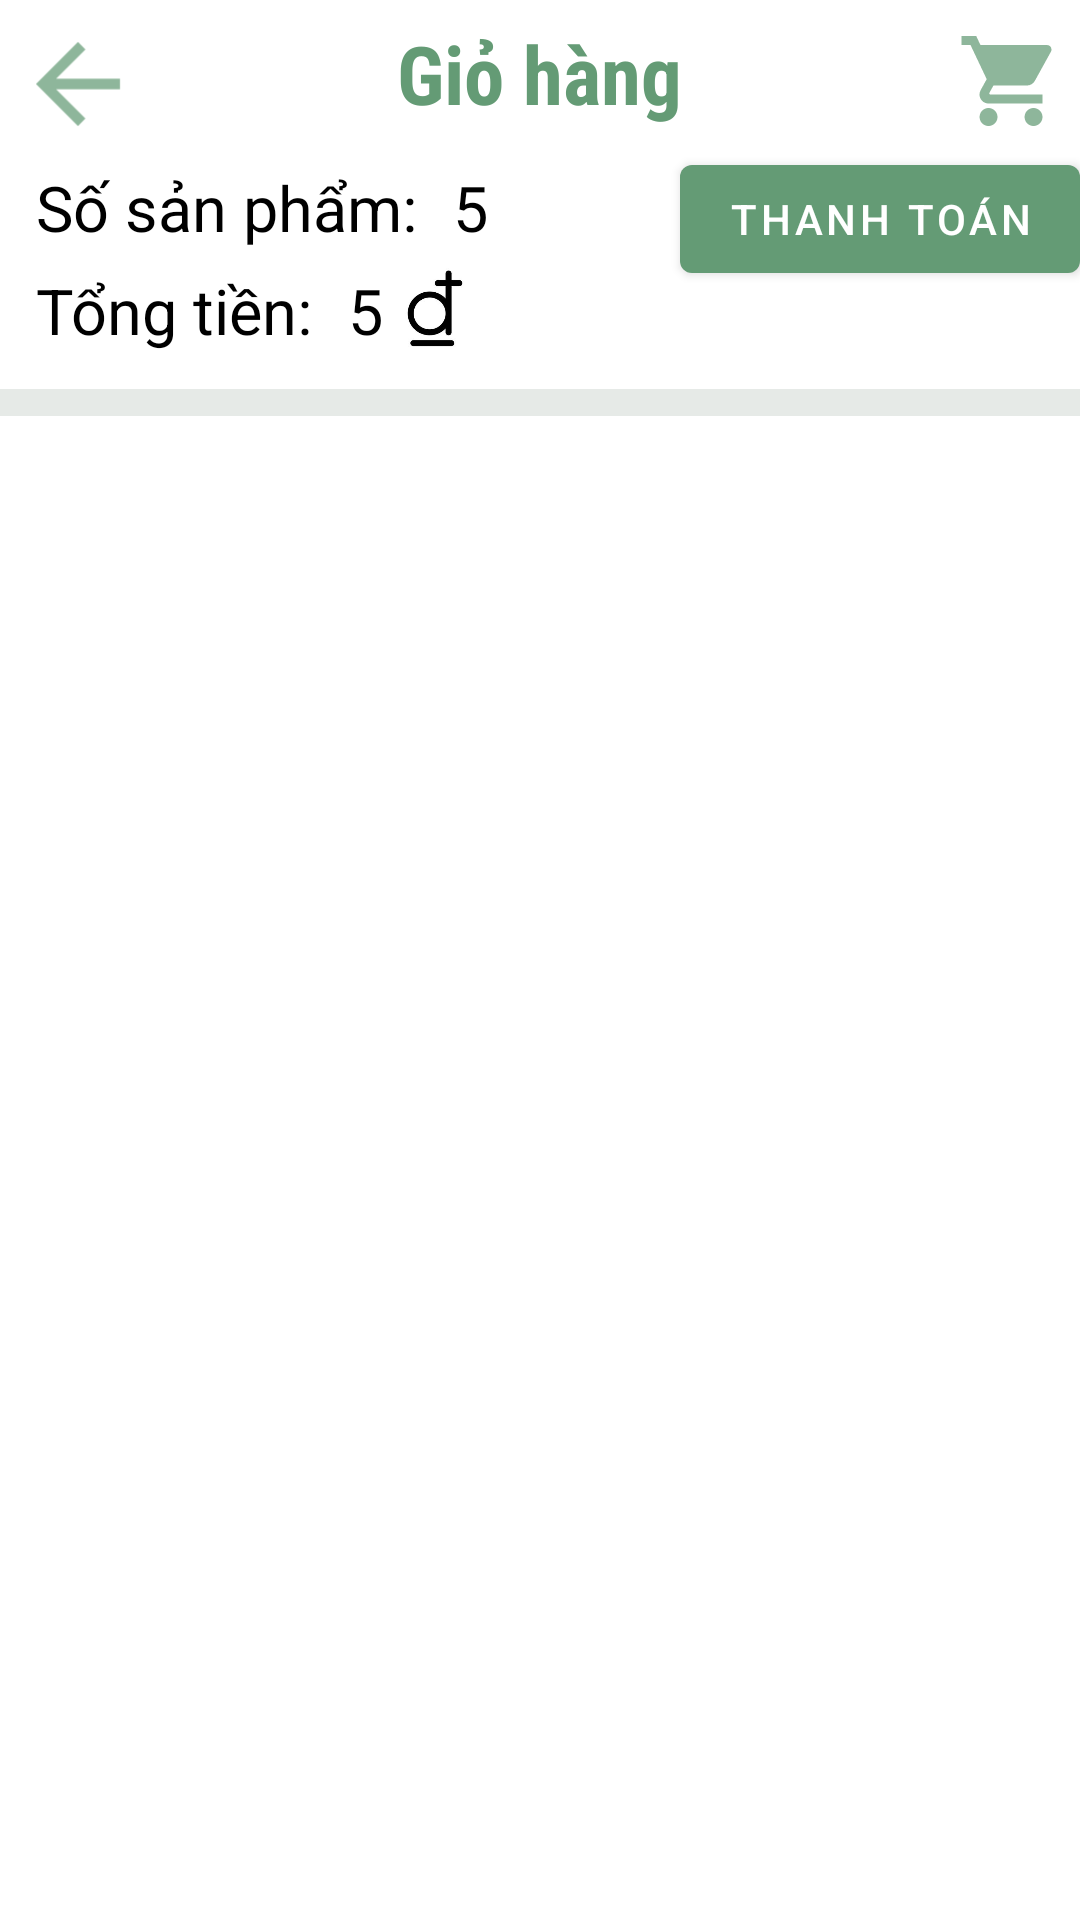

Named icons in this screenshot (1080px×1920px) and their bounding boxes, (x1, y1, x2, y2):
back: (36, 42, 120, 126)
cart home: (961, 36, 1052, 126)
